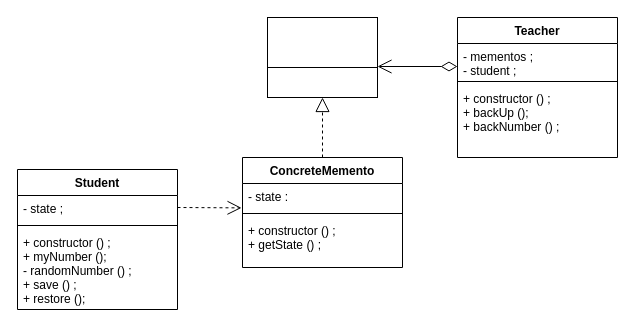
Some shapes in this 635 by 330 pixel diagram are drawn without their labels. Each missing label, with the centre of its shape:
"+ getState () ;" goes at point (322, 82).
"«interface» Memento" goes at point (322, 42).
